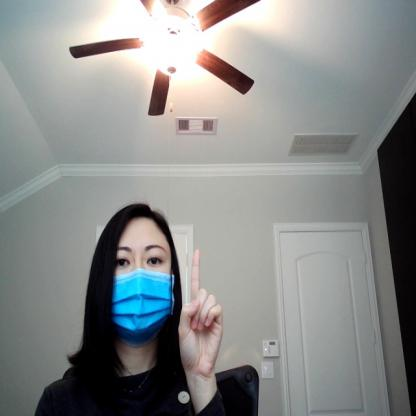one: (175, 247, 226, 377)
